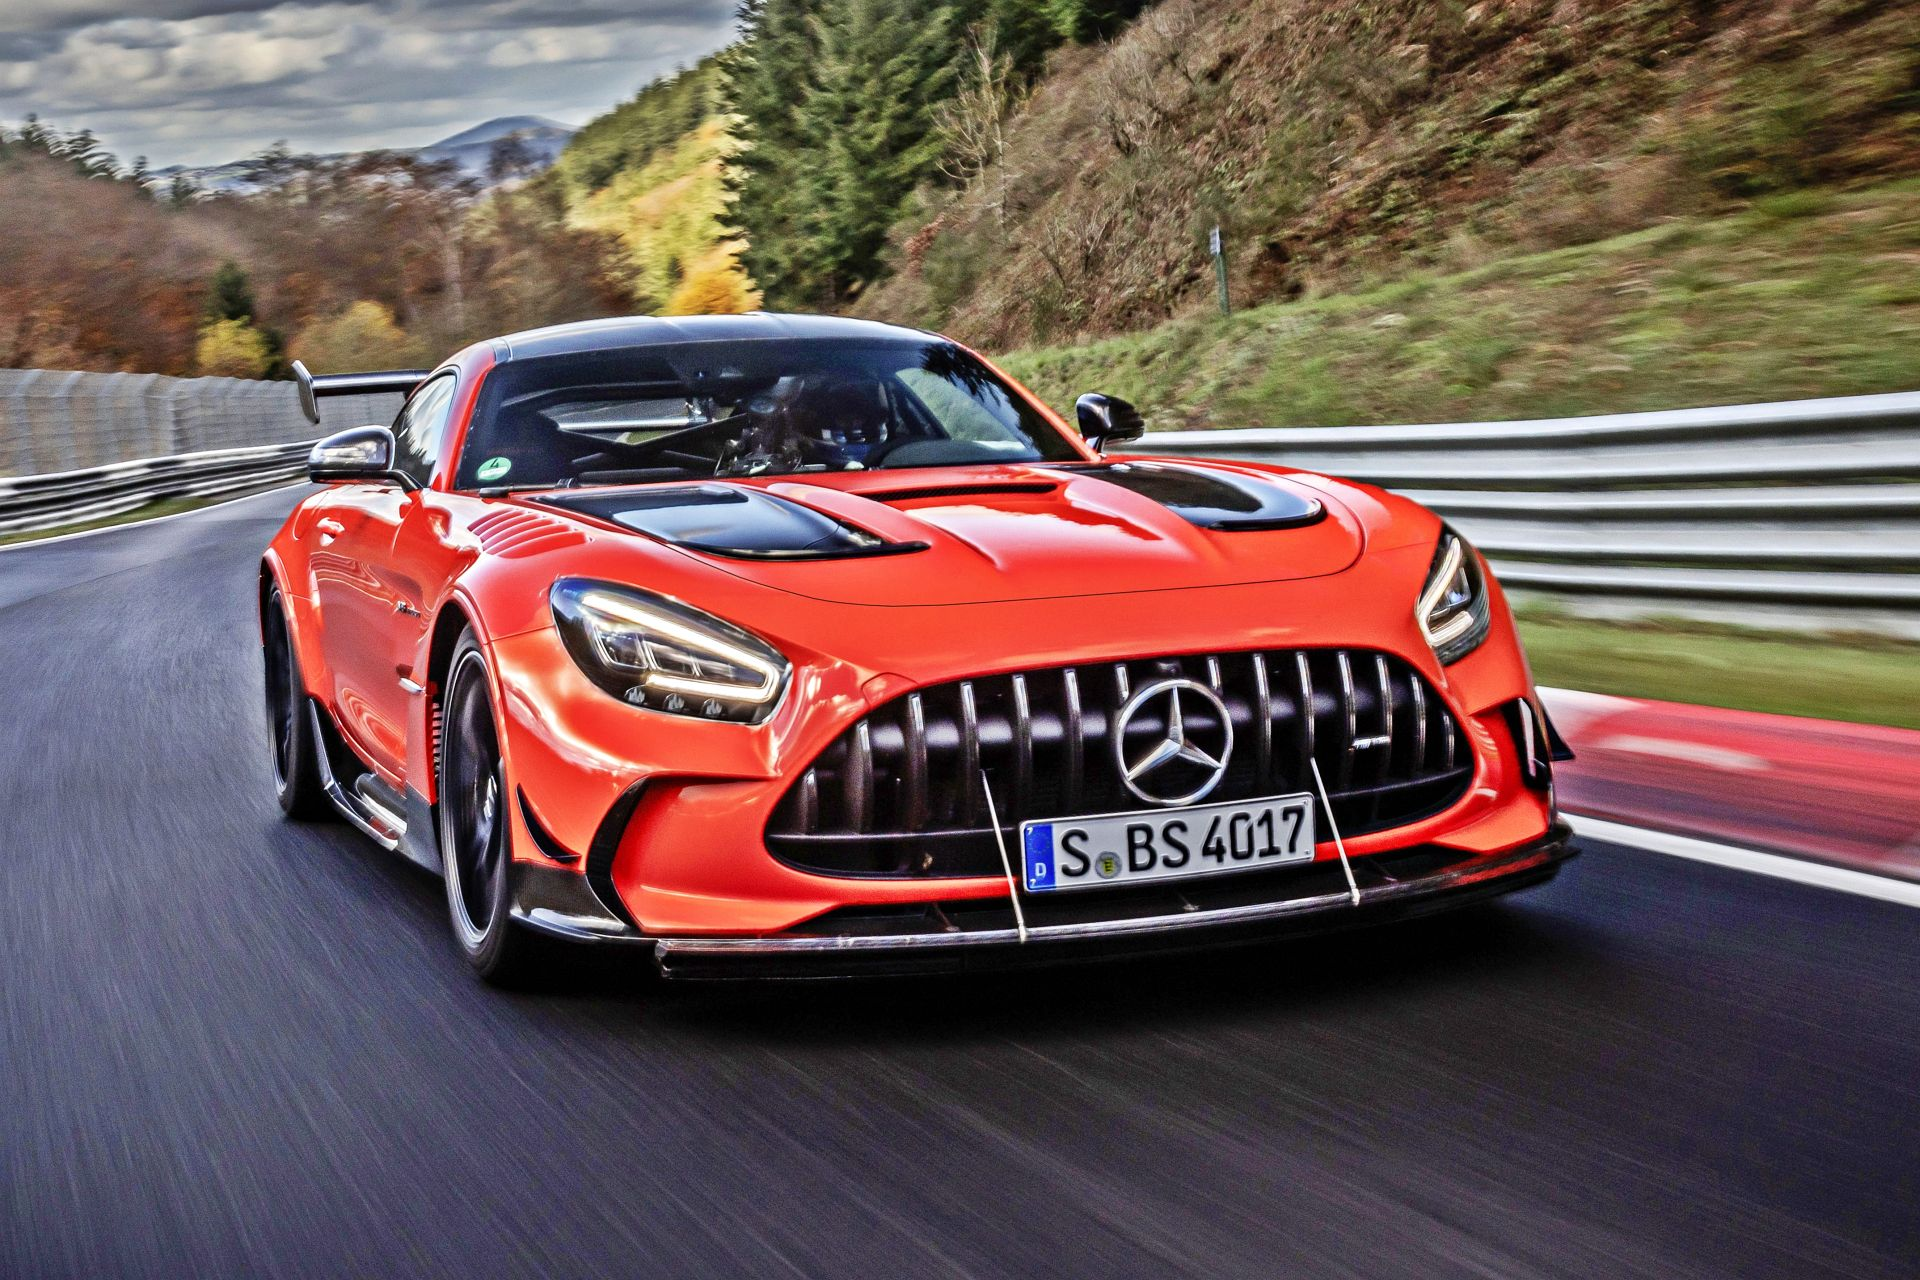tablica: (1019, 799, 1314, 881)
